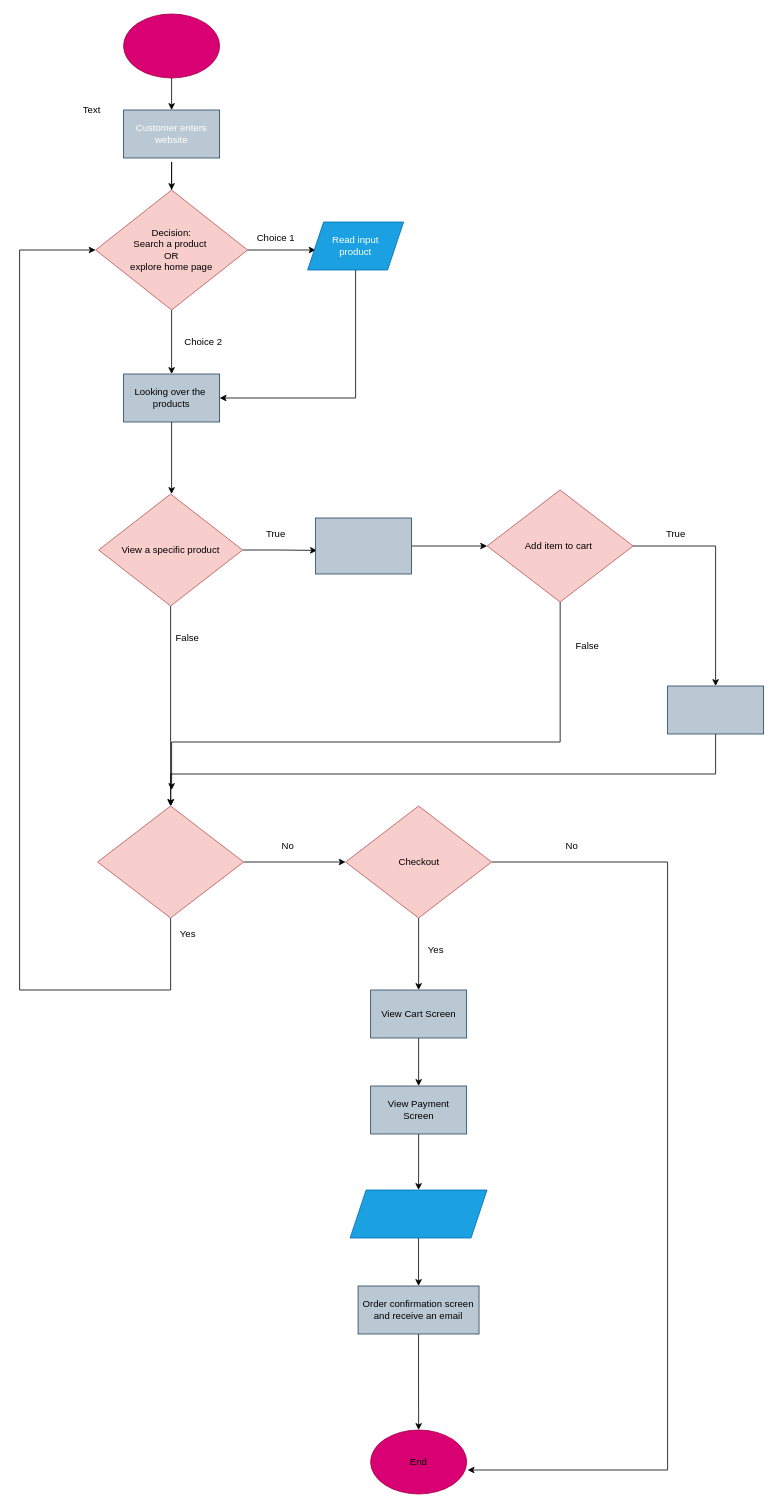
The diagram is 778 pixels wide and 1508 high, and some of its shapes have lost their labels. Each missing label, with the centre of its shape:
Continue Shopping: (x=170, y=861)
Product's webpage open: (x=363, y=545)
Read payment confirmation: (x=418, y=1213)
Receive an added to cart confirmation: (x=715, y=709)
Start: (x=171, y=45)
